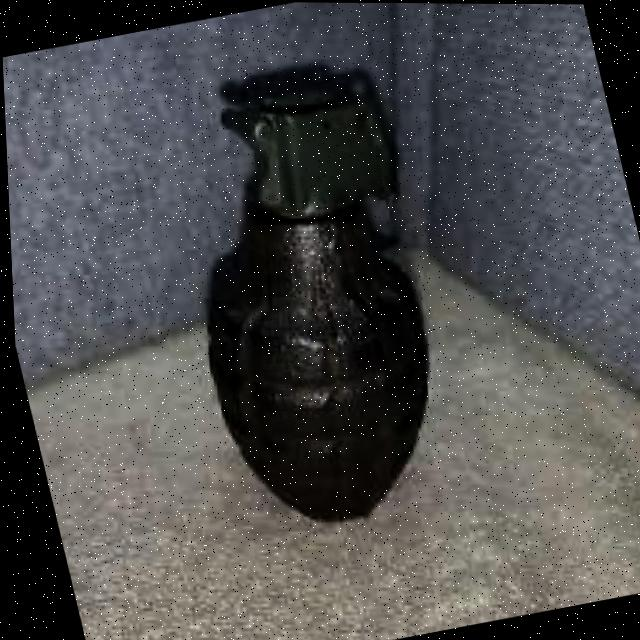grenade: (103, 11, 518, 569)
